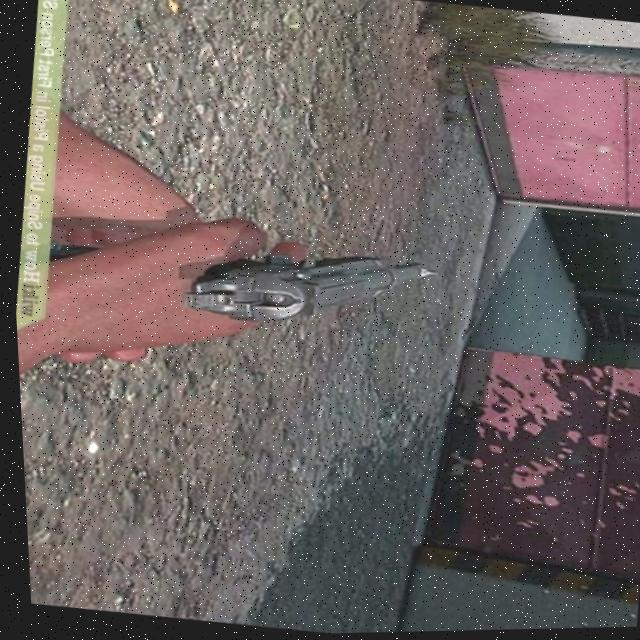pistol: (171, 233, 436, 347)
